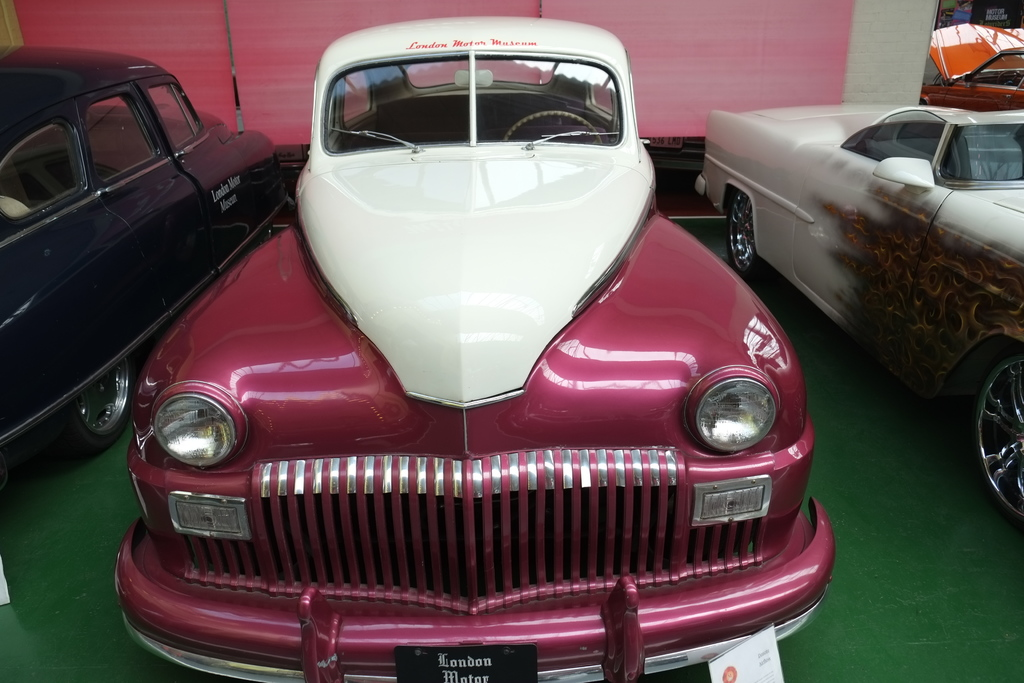car: (81, 21, 845, 679), (686, 67, 1024, 524), (1, 29, 305, 492)
